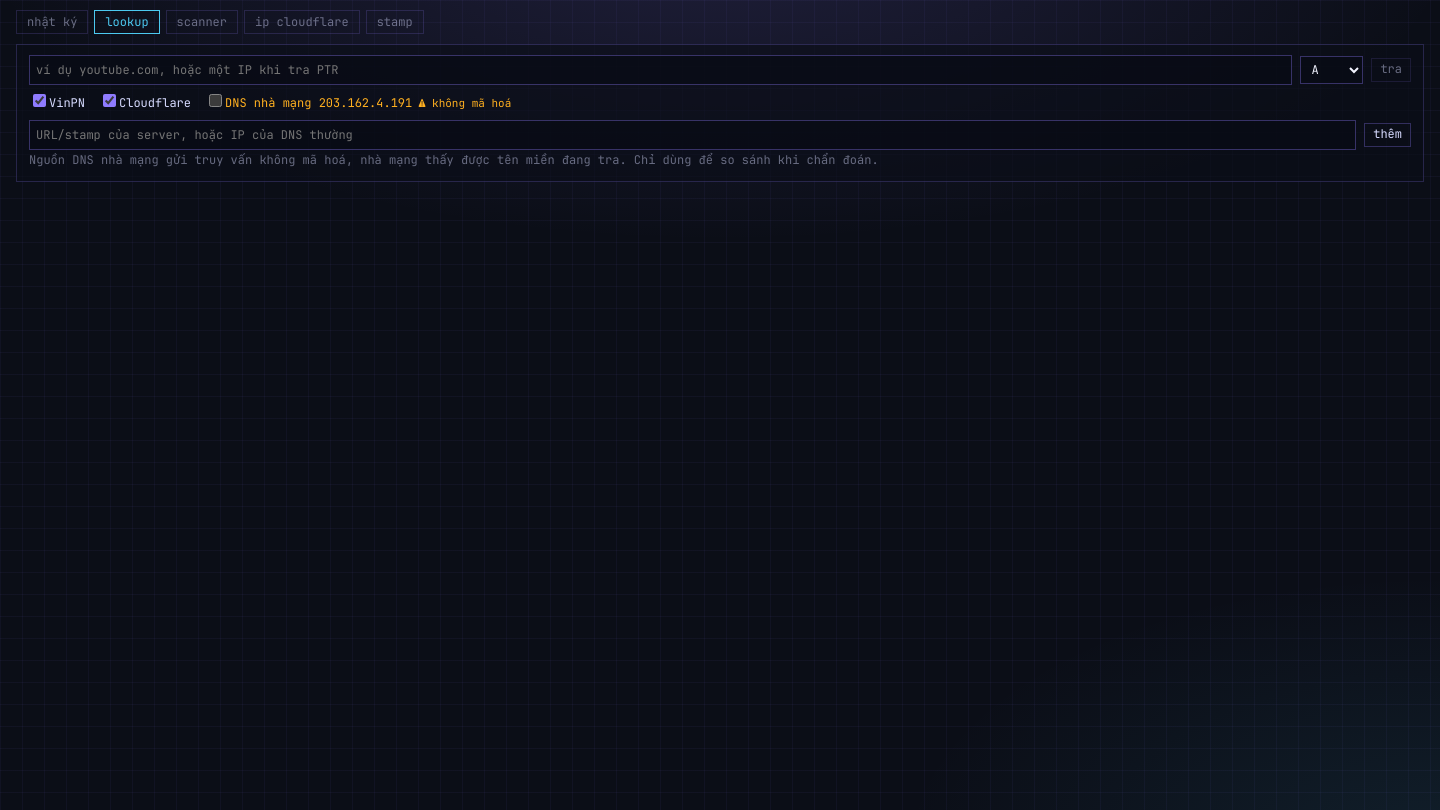
a lookup sends the checked sources and shows the poisoned verdict
Step 1. Click the checkbox labelled "DNS nhà mạng 203.162.4.191 ⚠ không mã hoá" → (216, 101), box [209,94,222,107]
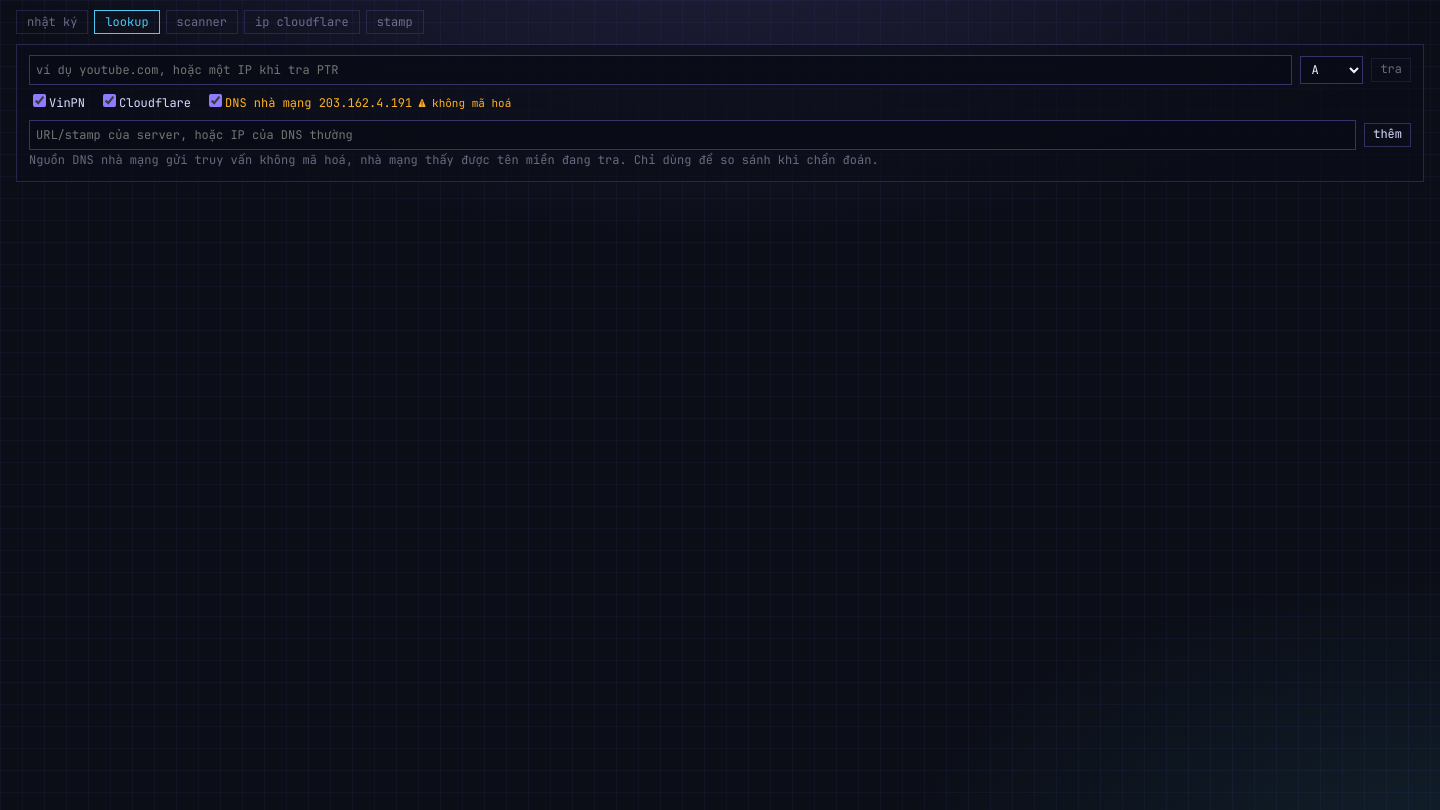
Step 2. Click the checkbox labelled "VinPN" → (40, 101), box [33,94,46,107]
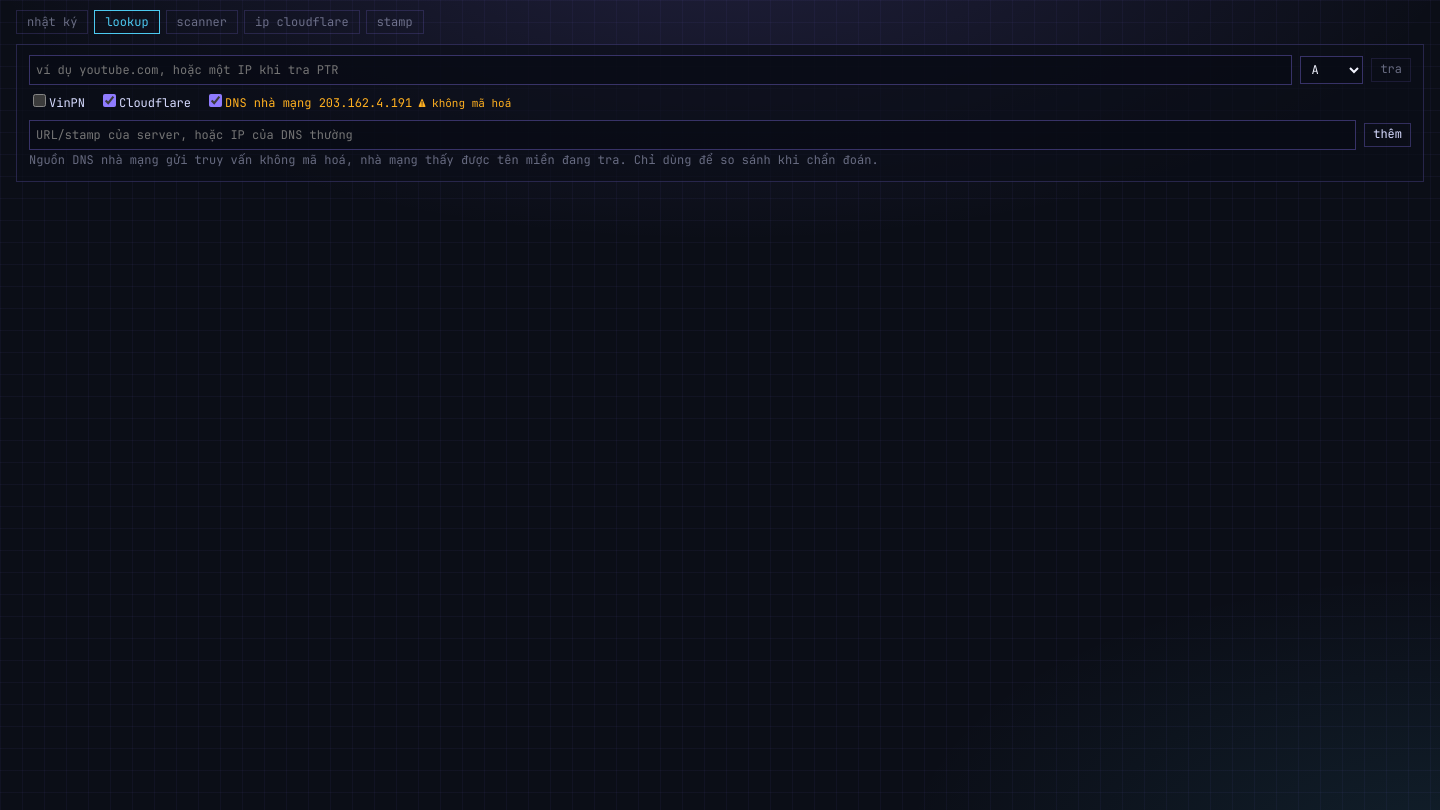
Step 3. Type "youtube.com" into the field named "tên miền" → (661, 70), box [29,55,1292,85]
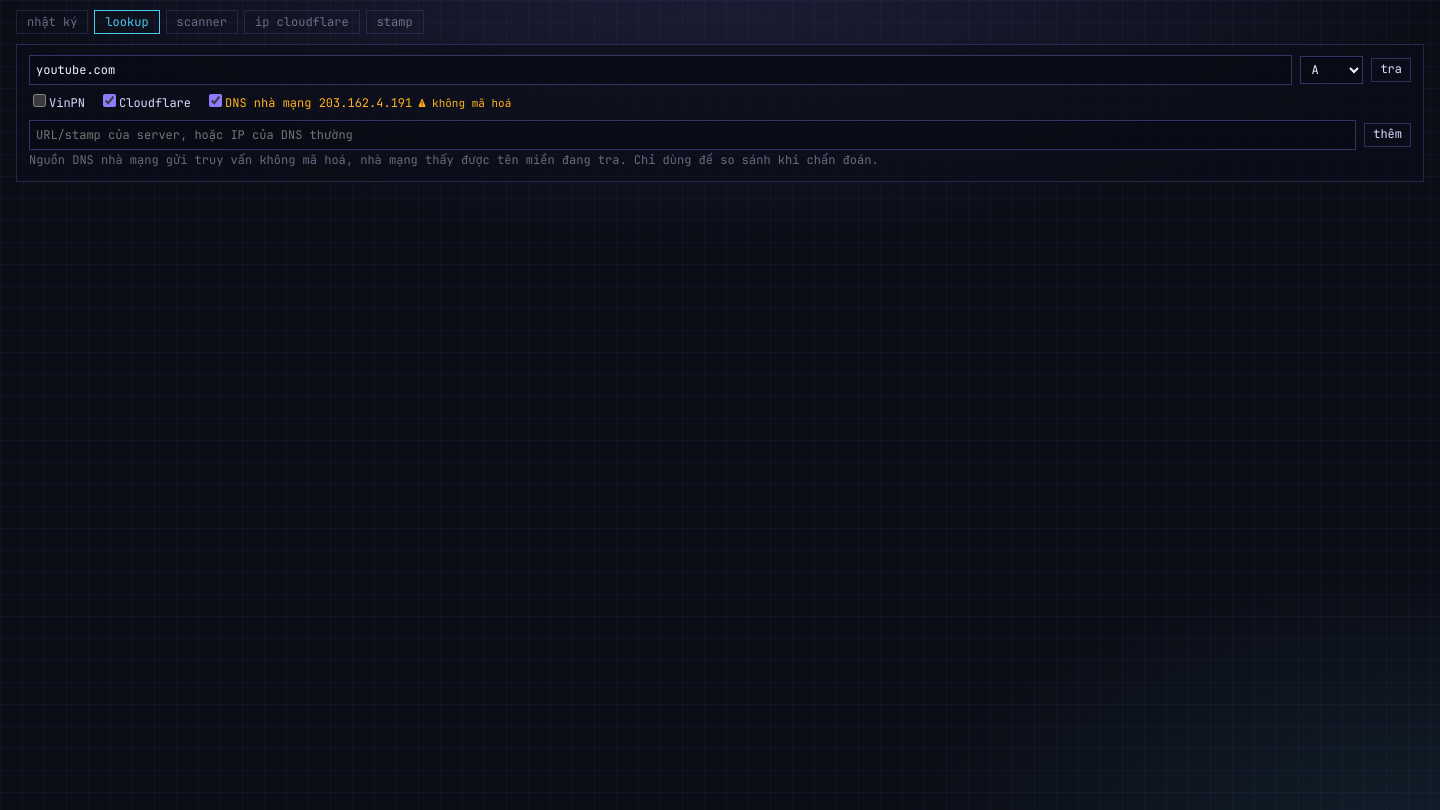
Step 4. Click the button "tra" → (1391, 70), box [1371,58,1411,82]
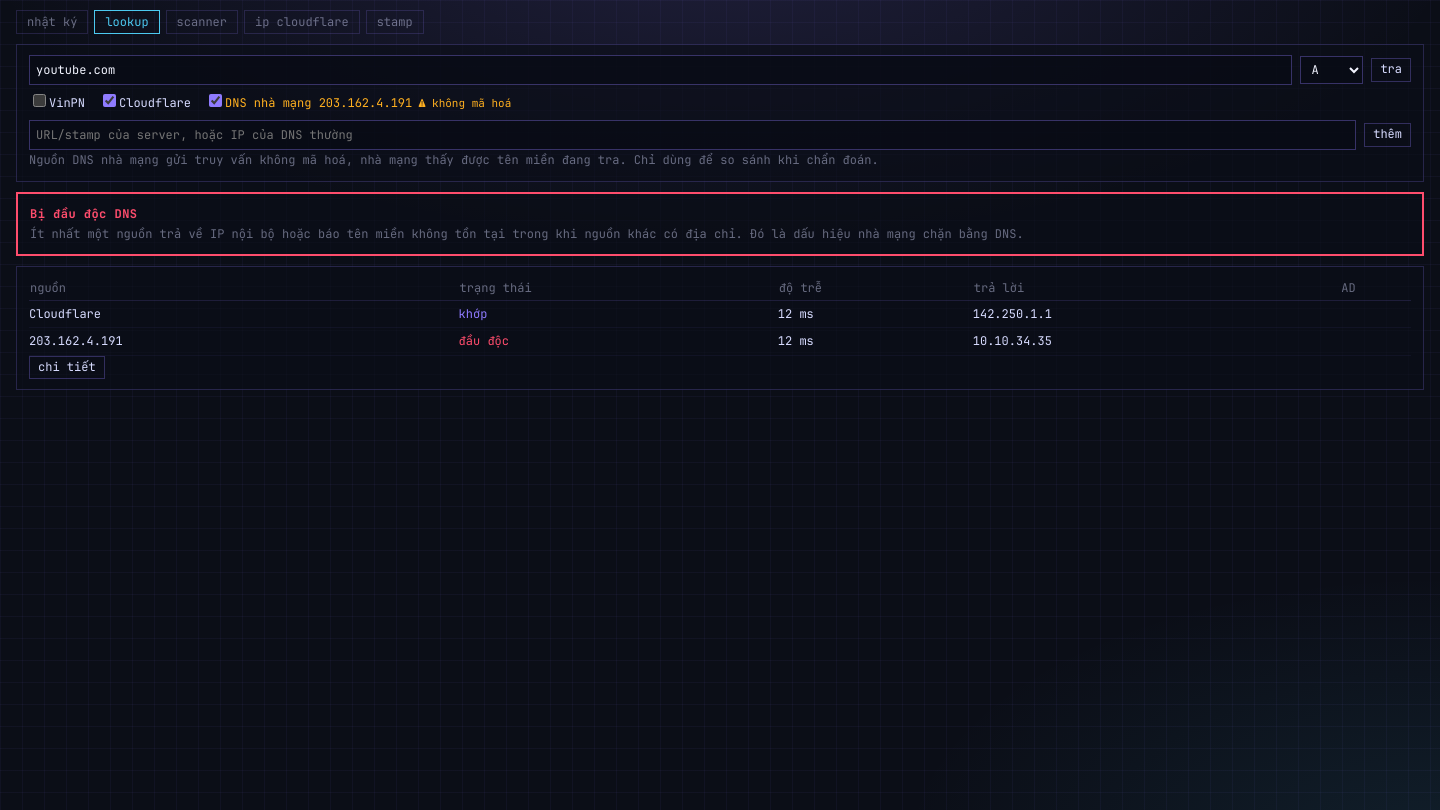
Now the text "Bị đầu độc DNS" is shown, box [30,206,138,222]
Now the text "10.10.34.35" is shown, box [973,333,1052,349]
